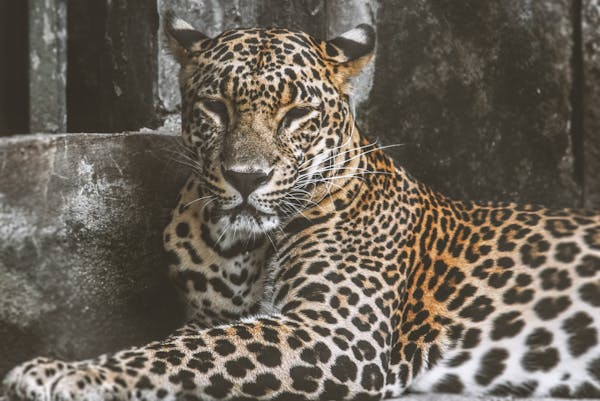Leopard: (2, 11, 600, 401)
